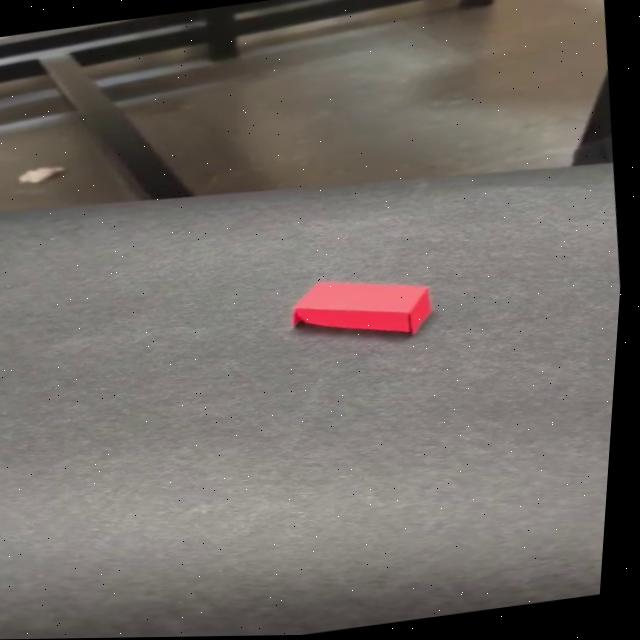red block: (285, 264, 440, 351)
